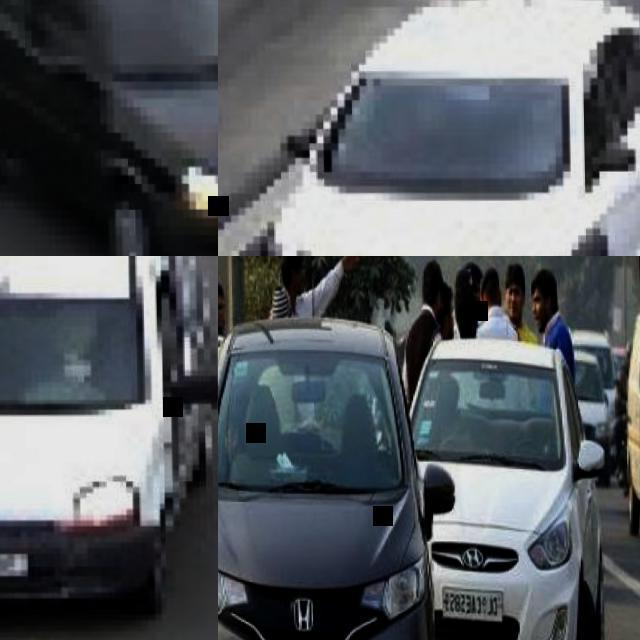car: (1, 256, 224, 618), (206, 312, 427, 639), (409, 304, 618, 639), (1, 0, 221, 237)
